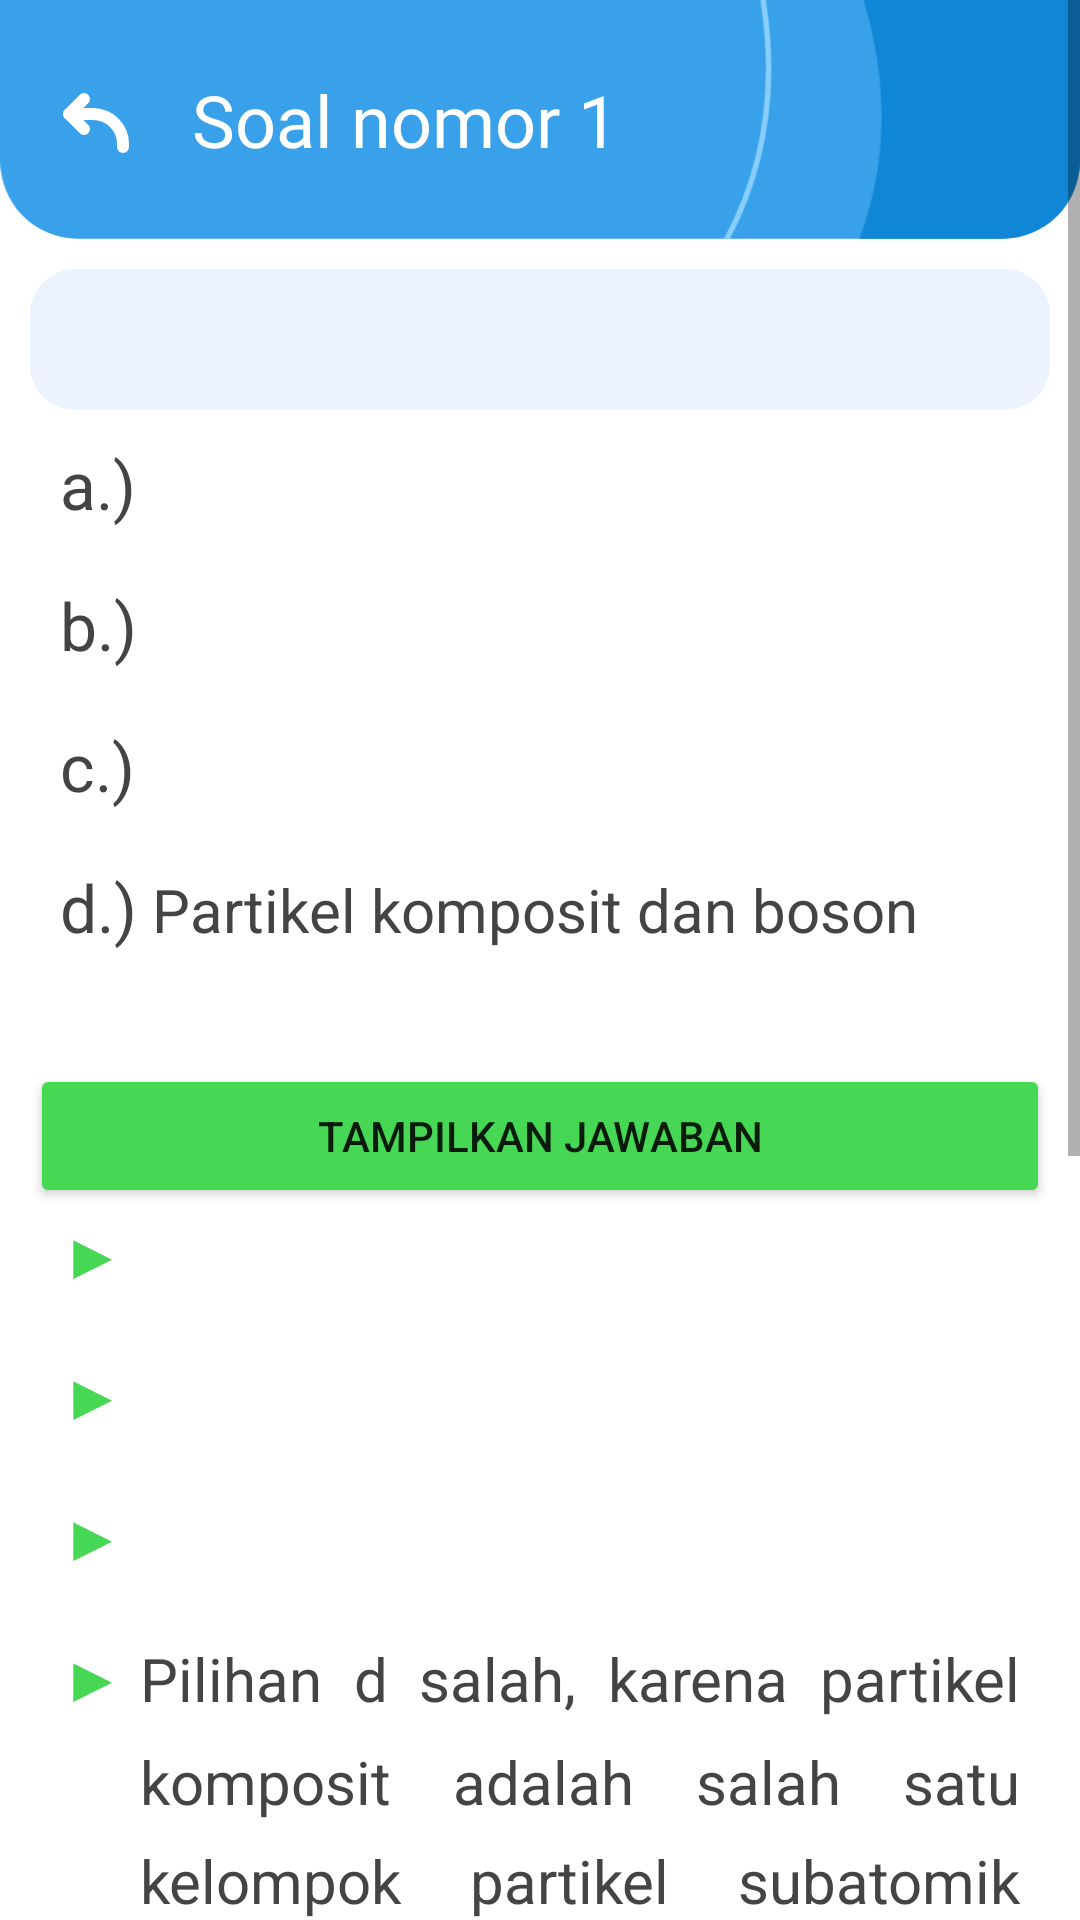

Point at icon controls on the screen. Image size 1080×1920, points as [x,y].
arrow back: [96,123]
